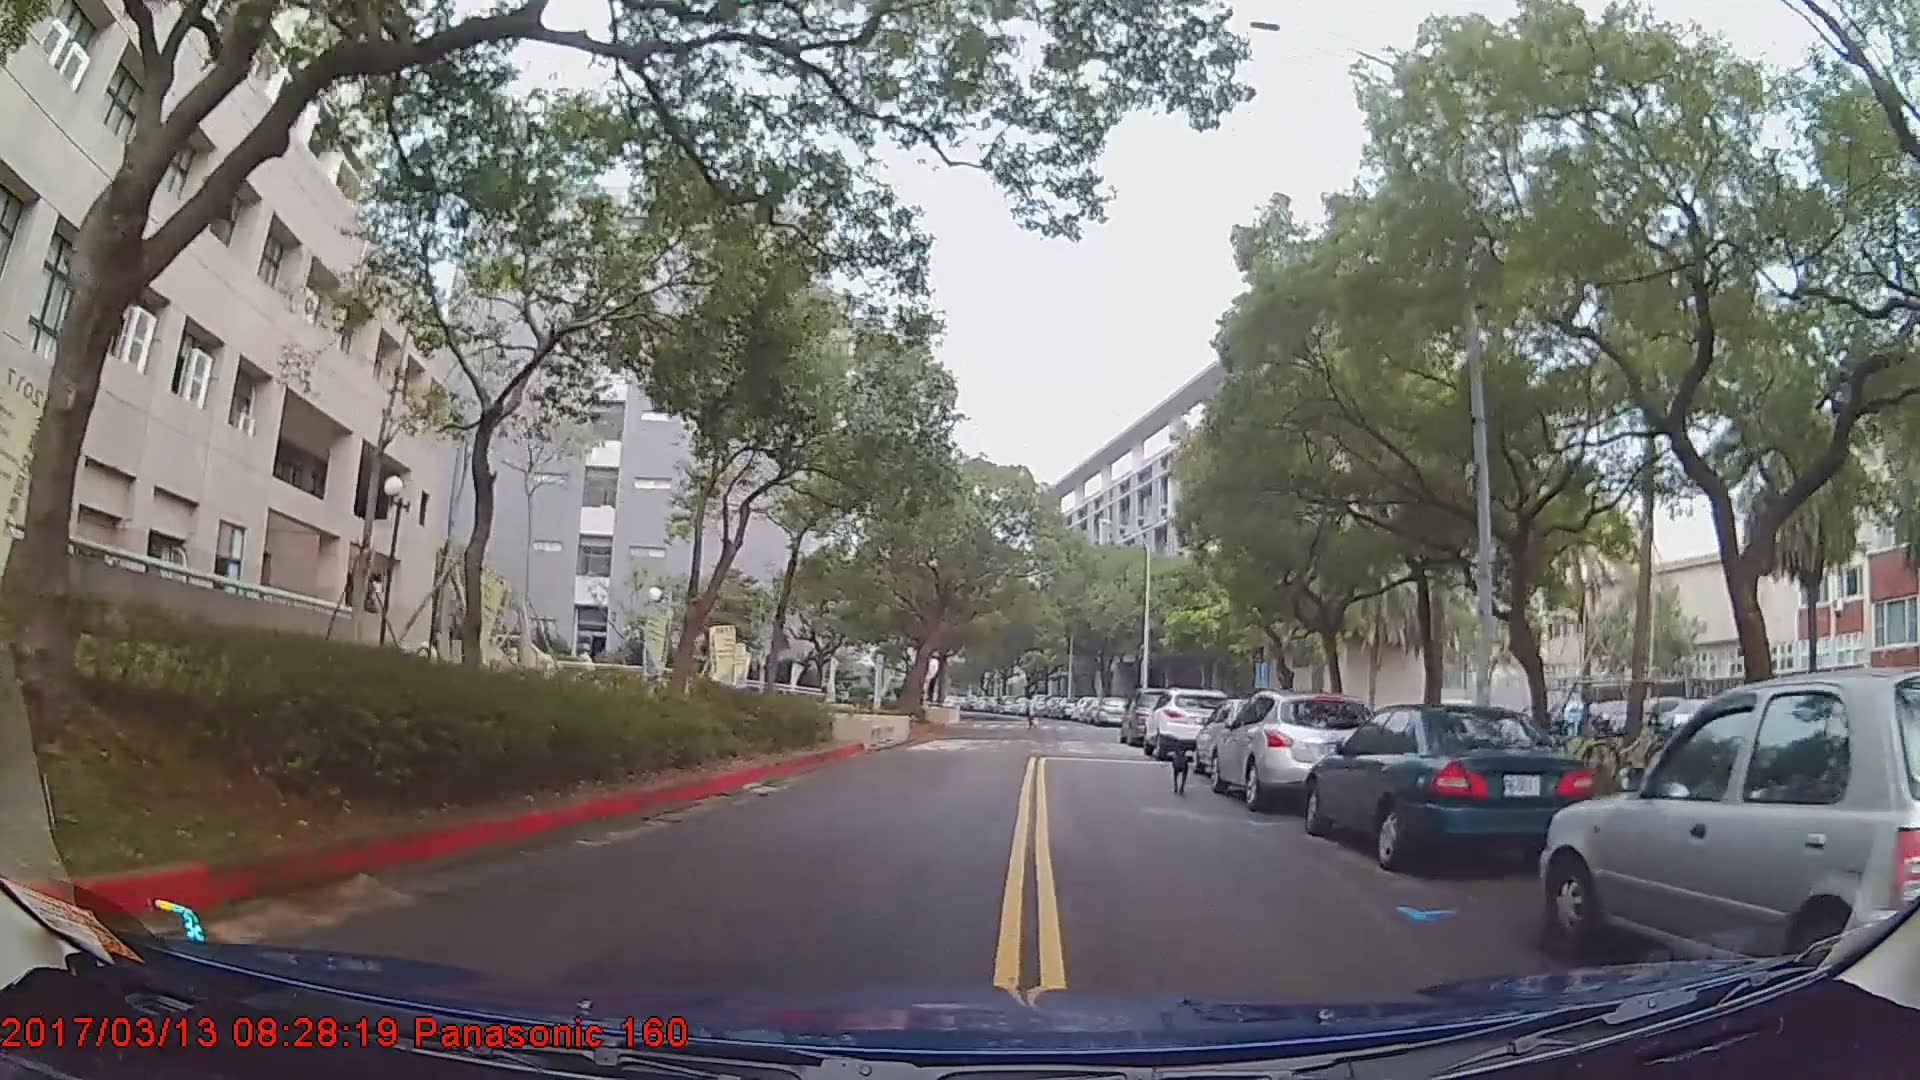pedestrian: (1023, 693, 1043, 733)
vehicle: (1541, 663, 1920, 991), (1303, 706, 1602, 877), (1207, 692, 1380, 819), (1144, 685, 1232, 756), (1119, 686, 1187, 747), (1091, 692, 1129, 725)
